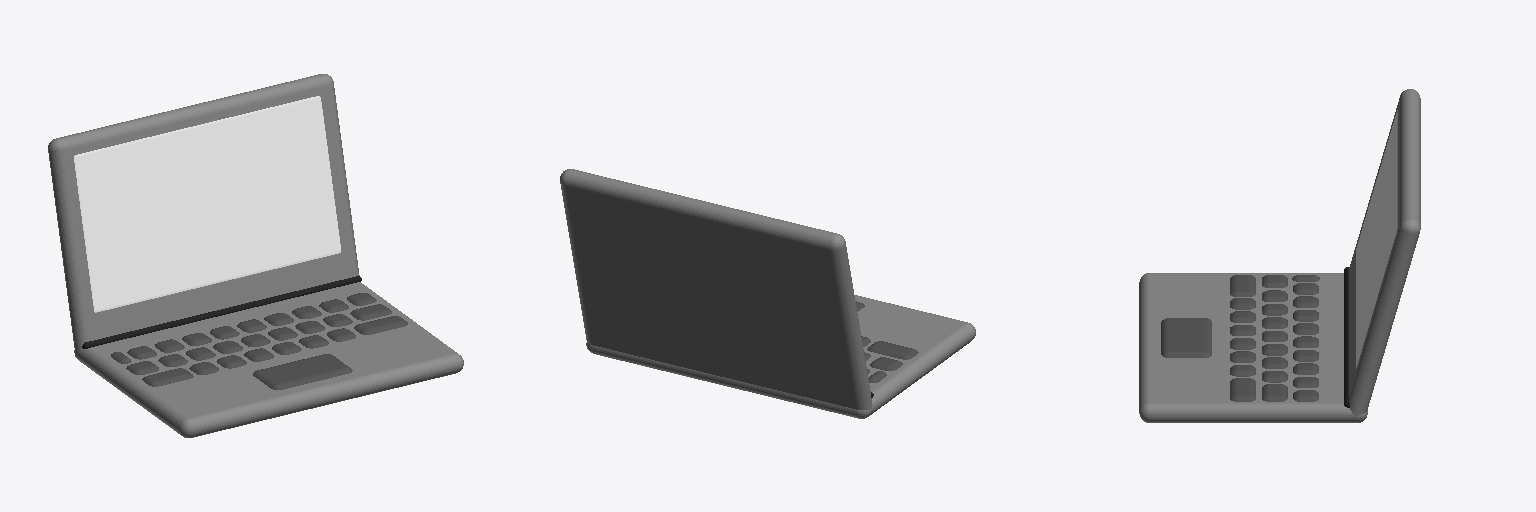
The model's file is Laptop.obj.
3 renders of one model, left to right at view 1: azimuth 30°, elevation 25°; view 2: azimuth 150°, elevation 25°; view 3: azimuth 270°, elevation 25°, orthographic.
Visible parts, largest first — view 1: 001_Box_2, 031_Box, 002_Box_1, 030_Box_3, 000_Box_31, 004_Box_25, 003_Box_28; view 2: 002_Box_1, 031_Box, 003_Box_28; view 3: 031_Box, 002_Box_1, 001_Box_2, 030_Box_3, 000_Box_31, 004_Box_25, 003_Box_28.
Boxes of the visible parts, <box> form: 001_Box_2: <box>74,96,340,312</box>; 031_Box: <box>74,282,463,437</box>; 002_Box_1: <box>48,74,359,352</box>; 030_Box_3: <box>253,354,352,389</box>; 000_Box_31: <box>82,276,361,348</box>; 004_Box_25: <box>354,316,407,334</box>; 003_Box_28: <box>142,368,193,386</box>; 002_Box_1: <box>560,169,872,409</box>; 031_Box: <box>586,295,975,418</box>; 003_Box_28: <box>867,341,918,359</box>; 031_Box: <box>1139,273,1367,422</box>; 002_Box_1: <box>1349,89,1420,415</box>; 001_Box_2: <box>1356,110,1397,368</box>; 030_Box_3: <box>1161,318,1211,357</box>; 000_Box_31: <box>1344,267,1349,407</box>; 004_Box_25: <box>1230,378,1255,401</box>; 003_Box_28: <box>1230,275,1255,296</box>.
Bounding box in the file's own units: 14.52 × 9.95 × 12.49.